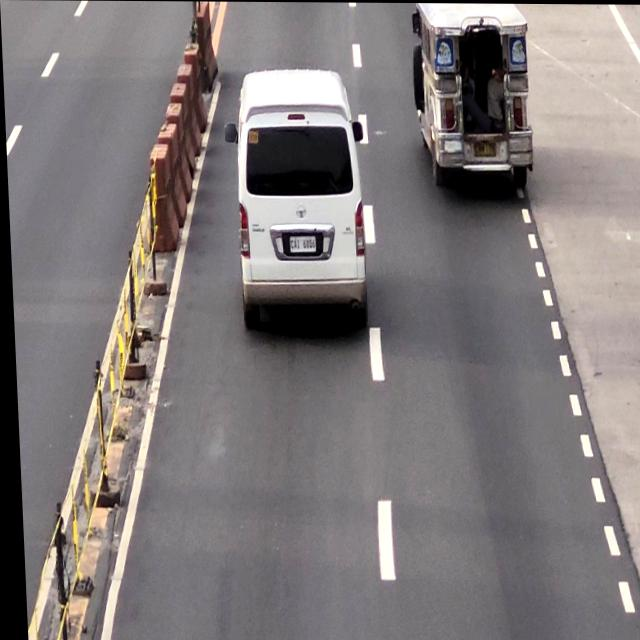Car: (230, 64, 363, 327)
Jeep: (416, 2, 527, 181)
License-Plate: (286, 232, 317, 258), (472, 139, 496, 155)
